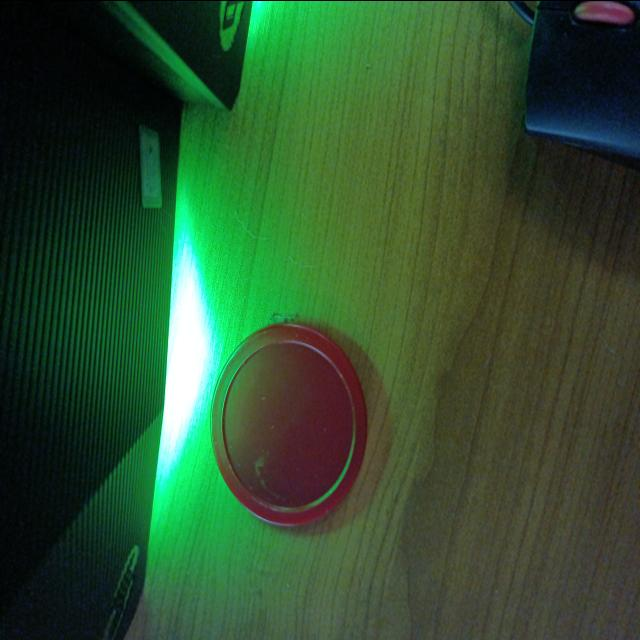chip: (208, 317, 366, 527)
